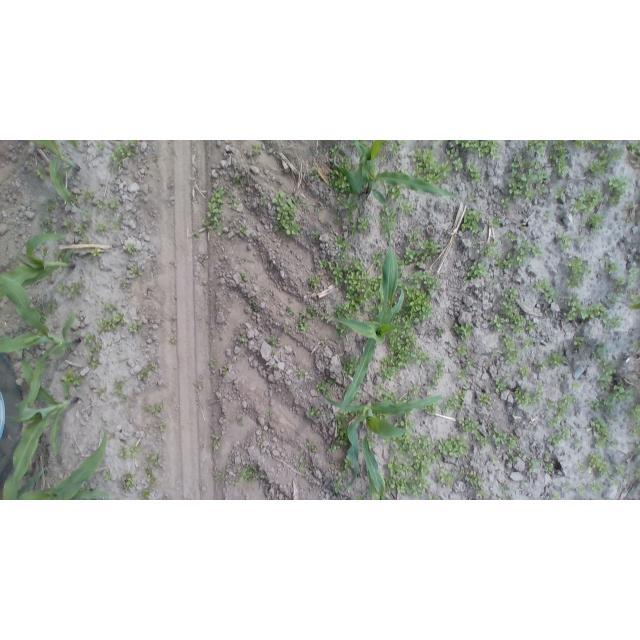Maize: (333, 216, 405, 414), (321, 389, 444, 499), (4, 349, 79, 500), (0, 275, 80, 406), (334, 140, 457, 205), (18, 429, 110, 500), (1, 233, 76, 301), (30, 141, 79, 208)
Weeds: (320, 259, 379, 317), (507, 154, 547, 199), (271, 189, 300, 235), (590, 382, 634, 412), (392, 330, 429, 365), (412, 149, 450, 183), (502, 286, 526, 337), (404, 285, 433, 325), (562, 295, 608, 319), (446, 141, 500, 160), (403, 240, 441, 265), (385, 477, 430, 498), (381, 436, 433, 454), (203, 189, 224, 229), (566, 256, 592, 288), (438, 435, 469, 457), (598, 355, 616, 389), (441, 391, 467, 414), (548, 396, 575, 418), (408, 271, 440, 289), (461, 210, 484, 234), (503, 336, 522, 365), (523, 383, 545, 408), (98, 313, 124, 334), (414, 453, 438, 475), (382, 456, 406, 478), (533, 280, 558, 301), (589, 453, 610, 477), (330, 170, 351, 193), (550, 154, 570, 178), (112, 143, 134, 164), (547, 424, 570, 444), (430, 358, 445, 388), (609, 175, 631, 194), (380, 357, 398, 380), (466, 262, 489, 279), (480, 241, 501, 259), (242, 465, 265, 481), (591, 417, 610, 436), (451, 323, 471, 341), (460, 417, 480, 434), (62, 369, 82, 385), (530, 140, 549, 156), (495, 374, 511, 393), (396, 414, 417, 428), (489, 313, 505, 331), (587, 190, 603, 207), (382, 206, 397, 224), (330, 478, 346, 494), (67, 283, 82, 300), (497, 253, 514, 268), (589, 159, 607, 173), (343, 357, 357, 375), (346, 194, 355, 221), (573, 140, 603, 148), (514, 240, 531, 254), (493, 428, 507, 445), (468, 163, 481, 181), (466, 472, 484, 485), (572, 198, 587, 213), (556, 234, 570, 250), (389, 186, 403, 201), (628, 404, 640, 421), (439, 471, 451, 488), (338, 425, 348, 445), (601, 317, 619, 328), (228, 195, 241, 210), (400, 200, 413, 215), (595, 436, 610, 449), (372, 249, 384, 264), (553, 140, 568, 152), (409, 228, 420, 244), (615, 276, 626, 292), (309, 276, 322, 289), (126, 445, 140, 457), (549, 353, 563, 365), (298, 317, 309, 332), (627, 141, 639, 154), (124, 477, 136, 490), (336, 412, 348, 425), (590, 213, 603, 225), (529, 460, 541, 473), (607, 293, 621, 304), (589, 483, 603, 494), (377, 393, 396, 401), (82, 188, 94, 200), (610, 194, 622, 206), (307, 408, 320, 419), (249, 299, 260, 312), (456, 345, 469, 356), (334, 237, 346, 248), (573, 337, 585, 348), (477, 436, 489, 447), (403, 461, 415, 472), (46, 302, 56, 315), (453, 158, 463, 171), (336, 324, 346, 337), (212, 434, 220, 450), (98, 199, 109, 210), (480, 394, 491, 405), (306, 440, 316, 452), (358, 219, 370, 229), (555, 188, 565, 200), (516, 254, 528, 264), (237, 220, 246, 233), (613, 149, 623, 160), (126, 244, 136, 255), (89, 358, 99, 369), (317, 384, 327, 395), (532, 245, 542, 256), (523, 338, 533, 349), (435, 327, 445, 338), (129, 323, 141, 332), (508, 436, 517, 448), (489, 218, 502, 226), (34, 170, 44, 180), (84, 333, 94, 343), (505, 231, 515, 241), (630, 295, 640, 305), (111, 221, 120, 232), (329, 444, 340, 453), (609, 264, 618, 275), (520, 365, 529, 376), (578, 461, 587, 472), (345, 457, 352, 471), (514, 387, 521, 401), (40, 219, 52, 227), (109, 198, 117, 210), (626, 279, 638, 287), (549, 418, 561, 426), (341, 241, 350, 251), (390, 143, 399, 153), (537, 362, 547, 371), (458, 369, 467, 379), (48, 203, 57, 212), (57, 284, 66, 293), (154, 404, 163, 413), (210, 358, 219, 367), (252, 146, 261, 155), (501, 199, 510, 208), (616, 466, 625, 475), (598, 150, 608, 158), (119, 448, 127, 458), (425, 406, 435, 414), (453, 469, 463, 477), (146, 465, 153, 476), (313, 167, 320, 178), (629, 268, 640, 275), (635, 422, 640, 437), (130, 268, 139, 276), (158, 424, 166, 433), (268, 335, 276, 344), (307, 304, 315, 313), (96, 389, 106, 396), (351, 227, 358, 237), (527, 321, 534, 331), (635, 440, 640, 454), (466, 358, 473, 368), (75, 224, 83, 232), (90, 248, 98, 256), (108, 303, 116, 311), (216, 473, 224, 481), (340, 252, 348, 260), (468, 192, 476, 200), (397, 260, 405, 268), (476, 488, 484, 496), (237, 417, 244, 426), (312, 232, 321, 239), (315, 204, 322, 213), (302, 203, 309, 212), (586, 208, 595, 215), (552, 493, 561, 500), (605, 140, 615, 146), (115, 381, 121, 391), (98, 142, 106, 149), (65, 220, 72, 228), (98, 223, 106, 230), (141, 370, 148, 378), (105, 472, 112, 480), (288, 307, 295, 315), (241, 273, 248, 281), (322, 312, 329, 320), (341, 156, 348, 164), (337, 196, 344, 204), (583, 188, 590, 196), (586, 226, 600, 230), (91, 345, 100, 351), (578, 236, 587, 242), (546, 463, 552, 472), (330, 147, 335, 157), (85, 214, 92, 221), (233, 176, 240, 183), (41, 247, 47, 255), (297, 369, 305, 375), (259, 196, 265, 204), (397, 281, 405, 287), (577, 487, 585, 493), (545, 452, 551, 460), (56, 254, 65, 259), (404, 397, 413, 402), (149, 364, 156, 370), (147, 455, 154, 461), (143, 491, 149, 498), (321, 338, 328, 344), (573, 381, 580, 387), (222, 366, 227, 374), (398, 140, 406, 145), (151, 156, 157, 162), (170, 337, 176, 343), (600, 257, 606, 263), (636, 469, 640, 478), (509, 457, 515, 463), (376, 385, 382, 391), (412, 388, 418, 394), (132, 141, 139, 146), (46, 229, 53, 234), (259, 439, 264, 446), (325, 394, 332, 399), (381, 156, 386, 163), (492, 349, 497, 356), (636, 155, 640, 163), (120, 279, 125, 285), (103, 303, 108, 309), (231, 480, 237, 485), (327, 380, 333, 385), (613, 480, 619, 485), (519, 451, 524, 457), (492, 457, 497, 463), (431, 496, 438, 500), (268, 410, 272, 417), (152, 478, 157, 483), (545, 211, 550, 216), (582, 222, 587, 227), (557, 382, 562, 387), (574, 443, 579, 448), (120, 396, 126, 400), (146, 406, 152, 410), (299, 465, 303, 471), (284, 327, 288, 333), (636, 341, 640, 347), (613, 442, 617, 448), (300, 456, 303, 463), (398, 272, 402, 277), (494, 280, 499, 284), (562, 372, 567, 376), (312, 316, 315, 322), (599, 345, 605, 348), (564, 484, 570, 487), (155, 461, 159, 465), (240, 338, 244, 342), (194, 231, 198, 235), (592, 352, 596, 356), (118, 164, 123, 167), (615, 418, 618, 423), (271, 351, 275, 354), (218, 232, 222, 235), (518, 226, 522, 229), (632, 429, 635, 432), (524, 481, 527, 484)
